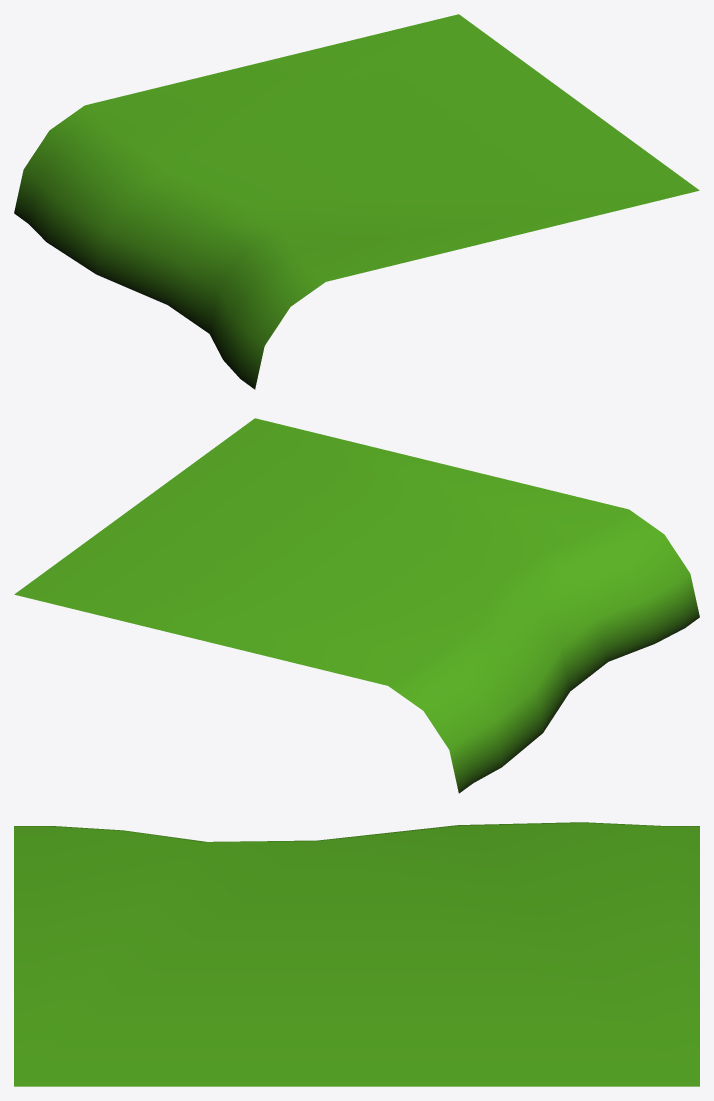
File: Surface_RoadUp02.fbx
3 renders of one model, top to bottom at view 1: azimuth 30°, elevation 25°; view 2: azimuth 150°, elevation 25°; view 3: azimuth 270°, elevation 25°, orthographic. The views are drawn at different scales.
Parts seen in each view (by area): view 1: Surface_RoadUp02; view 2: Surface_RoadUp02; view 3: Surface_RoadUp02.
Boxes of the visible parts, x1,y1,x2,y2 form: Surface_RoadUp02: [14, 14, 699, 389]; Surface_RoadUp02: [14, 418, 699, 793]; Surface_RoadUp02: [14, 822, 699, 1086].
Bounding box in the file's own units: 2156 × 415 × 2000.
